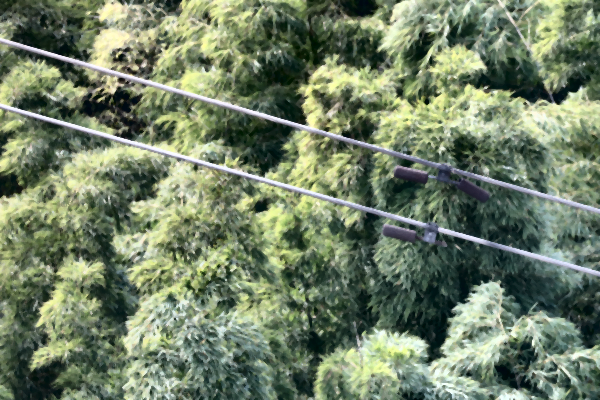damper: (391, 160, 491, 203)
damper_defect: (380, 219, 462, 251)
